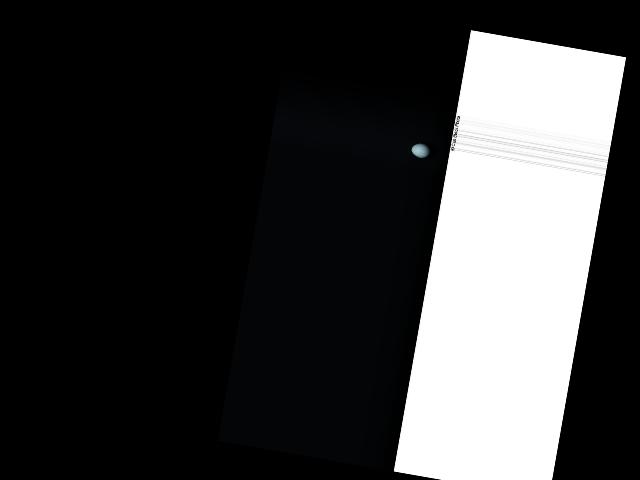egg: (410, 141, 432, 159)
